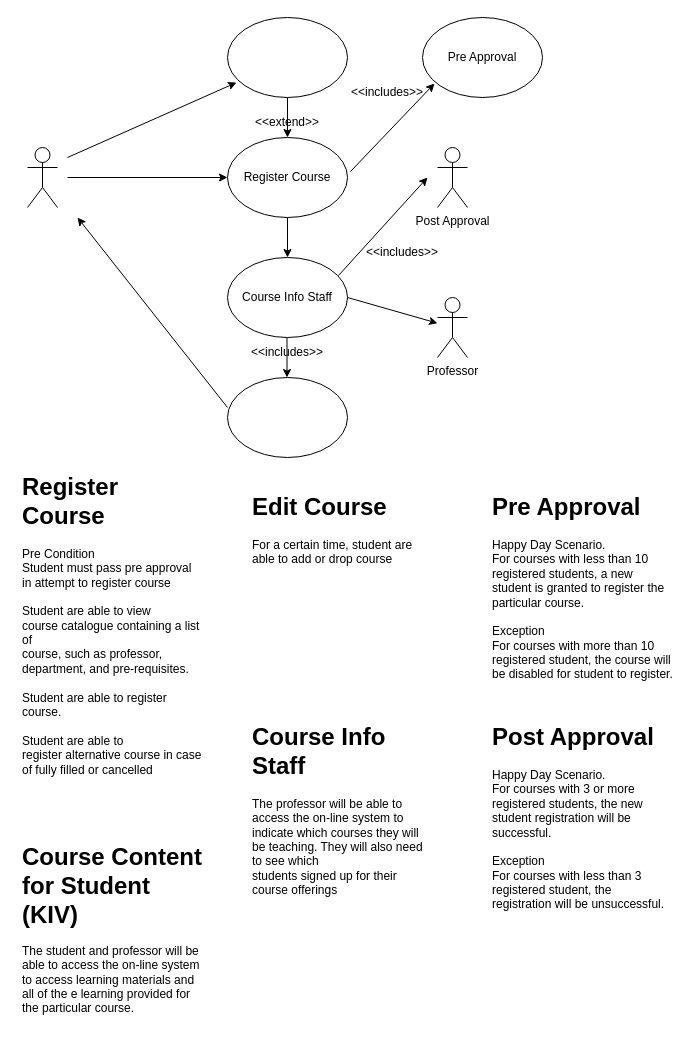
Some shapes in this 694 by 1055 pixel diagram are drawn without their labels. The shapes that lost their labels are listed below. From the top down, each one's centre as x and y in pixels, then its label:
At point (287, 57): "Edit Course".
At point (42, 177): "Student".
At point (287, 417): "Course Content for student (KIV)".
